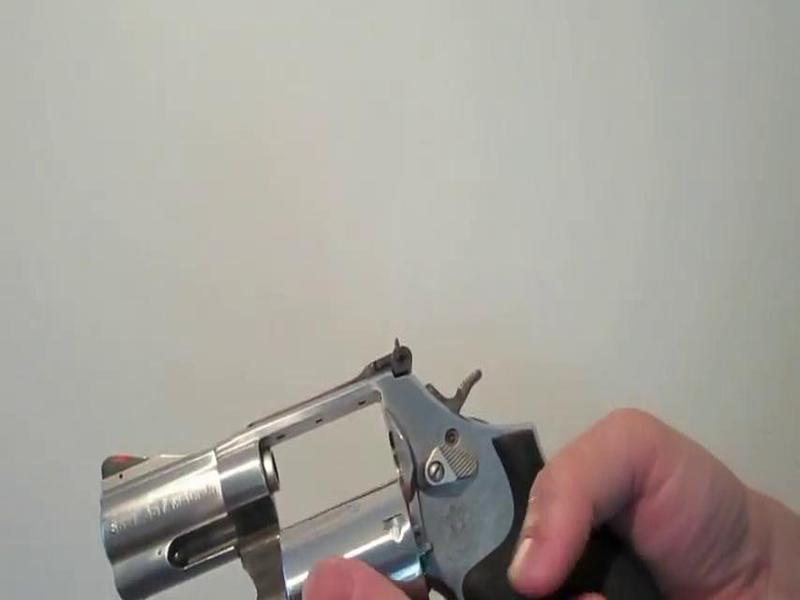Revolver: (92, 334, 708, 600)
